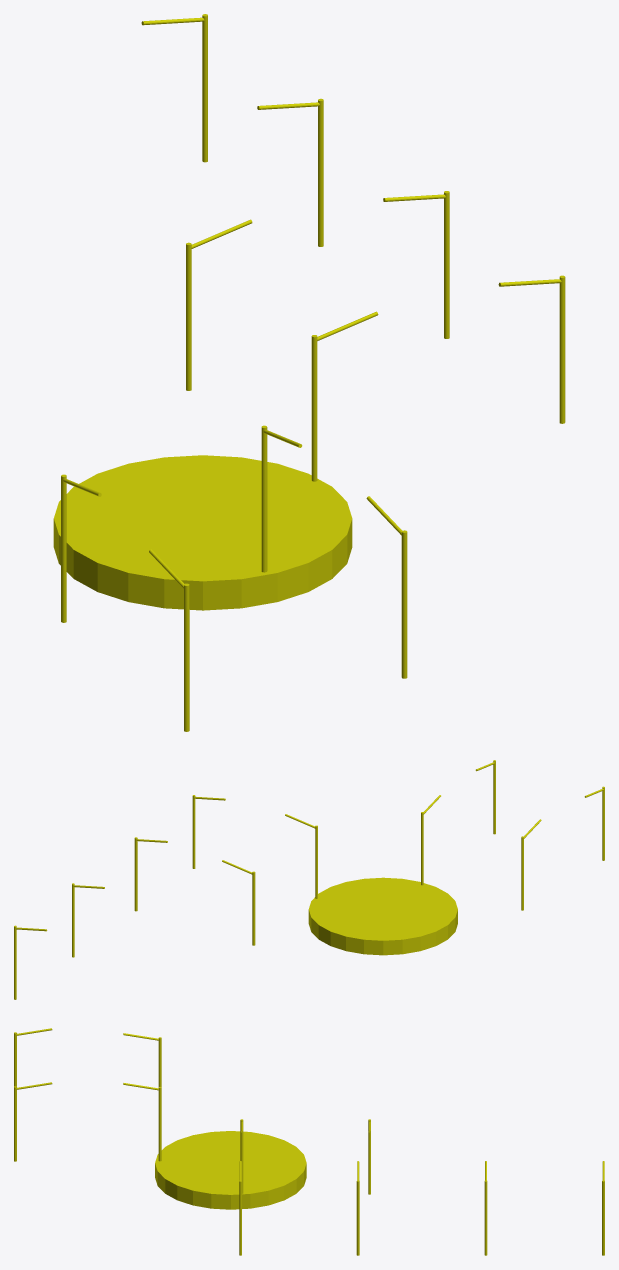
File: flynns-neighborhood-collider.dae
The picture shows the model from 3 angles, top to bottom: view 1: azimuth 30°, elevation 25°; view 2: azimuth 150°, elevation 25°; view 3: azimuth 270°, elevation 25°; orthographic projection. The views are drawn at different scales.
Parts seen in each view (by area): view 1: Cylinder_021, Cylinder_010, Cylinder_014, Cylinder_005, Cylinder; view 2: Cylinder_021; view 3: Cylinder_021.
Part boxes in pixels (box(x1,y1,x2,y2)): Cylinder_021: box(53, 455, 352, 610); Cylinder_010: box(401, 530, 407, 678); Cylinder_014: box(559, 275, 565, 423); Cylinder_005: box(311, 335, 317, 481); Cylinder: box(261, 425, 267, 572); Cylinder_021: box(308, 877, 457, 955); Cylinder_021: box(155, 1131, 306, 1209).
Size of what is drawn, in the model's own units: 38.63 by 64.63 by 11.2.
